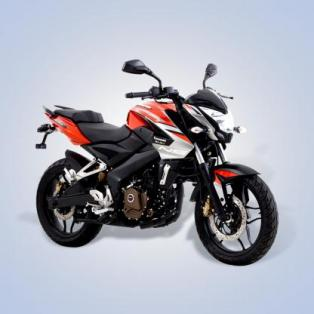Motocicleta: (26, 54, 282, 270)
